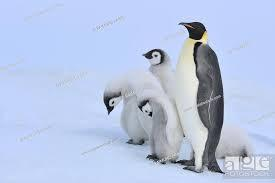emporer: (158, 17, 242, 177)
